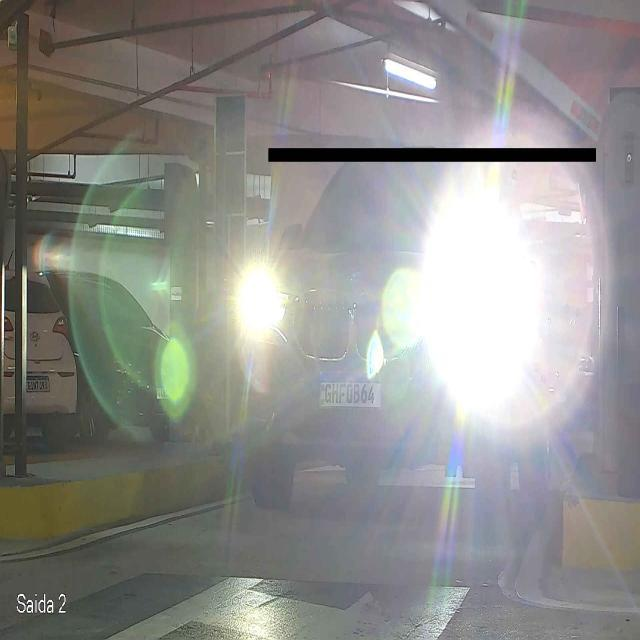mercosul_plate: (315, 370, 383, 409)
